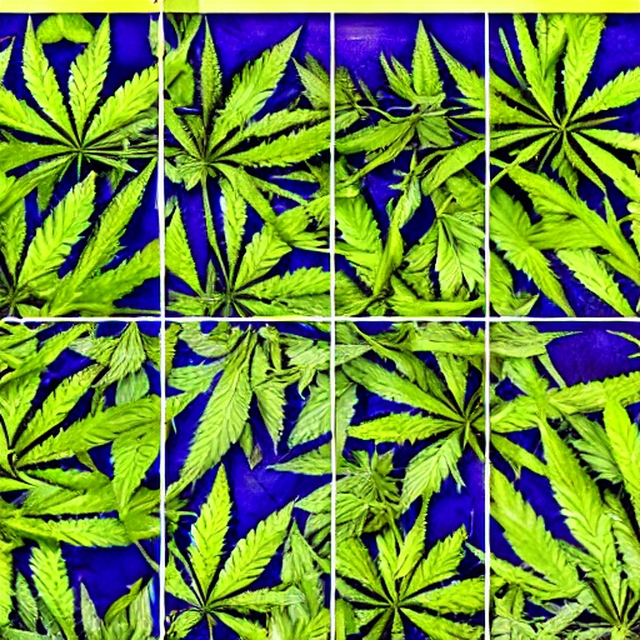Marijuana Leaf: (1, 320, 160, 639), (1, 13, 159, 315), (163, 15, 329, 297), (489, 328, 639, 640), (488, 13, 639, 316), (334, 18, 485, 315), (165, 322, 328, 499), (334, 517, 484, 639)
